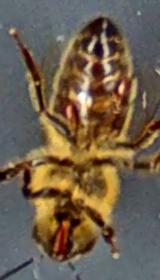varroa_mite: (108, 66, 136, 108), (56, 96, 86, 129)
